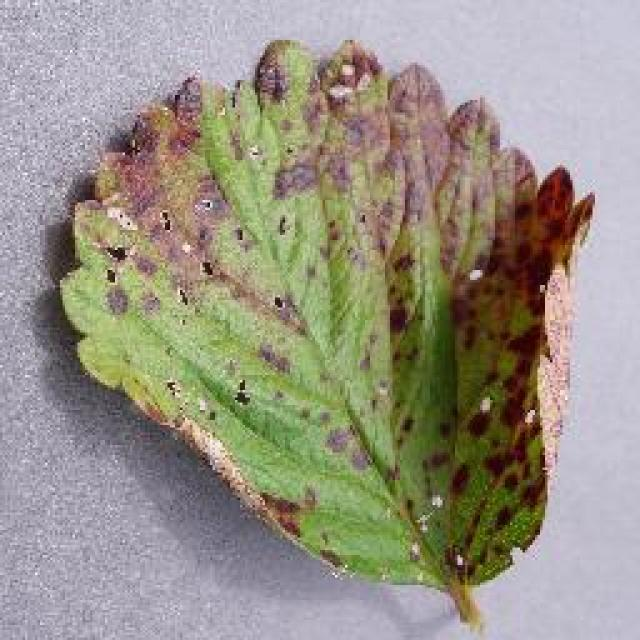Strawberry leaf scorch: (126, 118, 512, 542)
